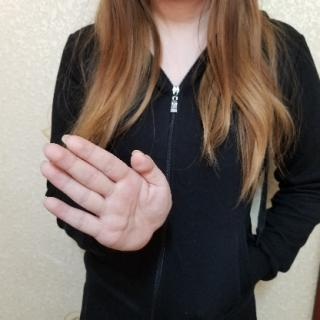SEEN: (36, 126, 175, 259)
